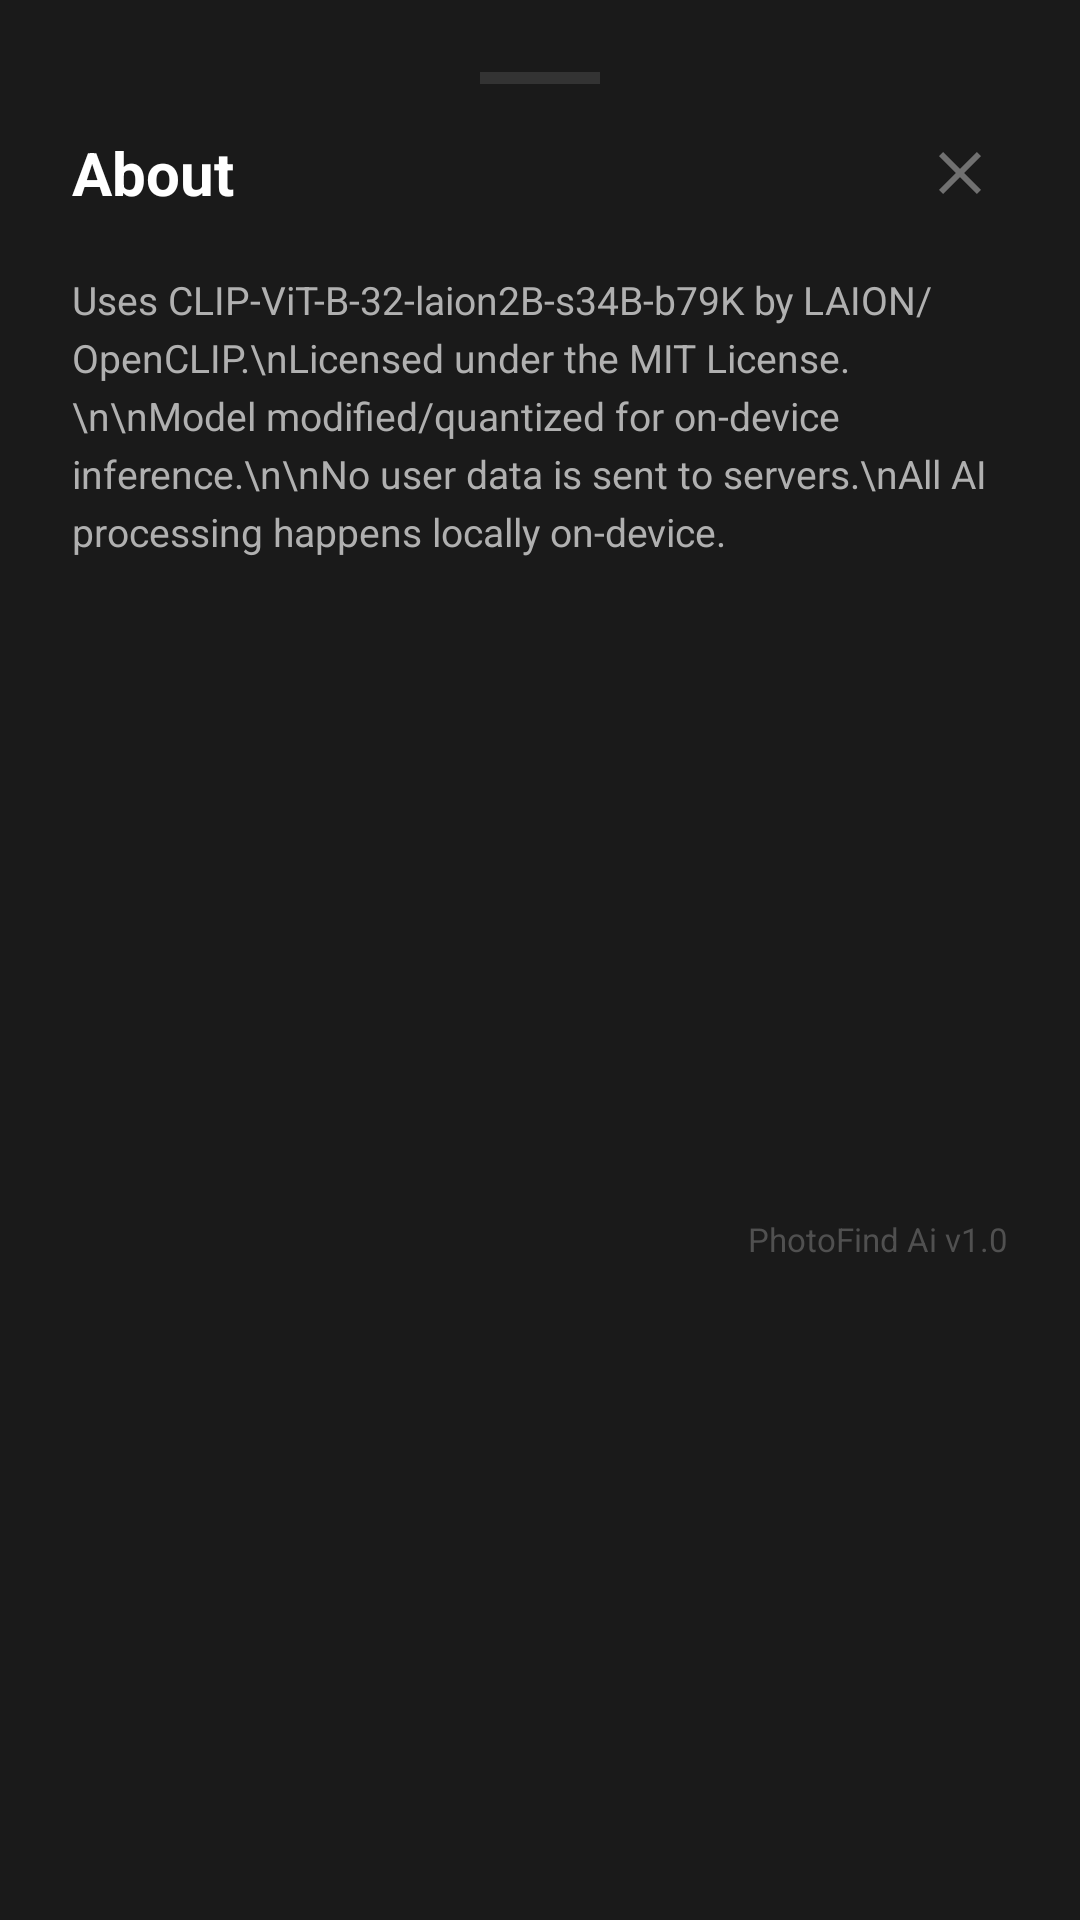

Named icons in this screenshot (1080 × 1920) and their bounding boxes, [x1=x1, y1=y1, x2=x2, y2=y2]:
close: [x1=939, y1=152, x2=981, y2=194]
